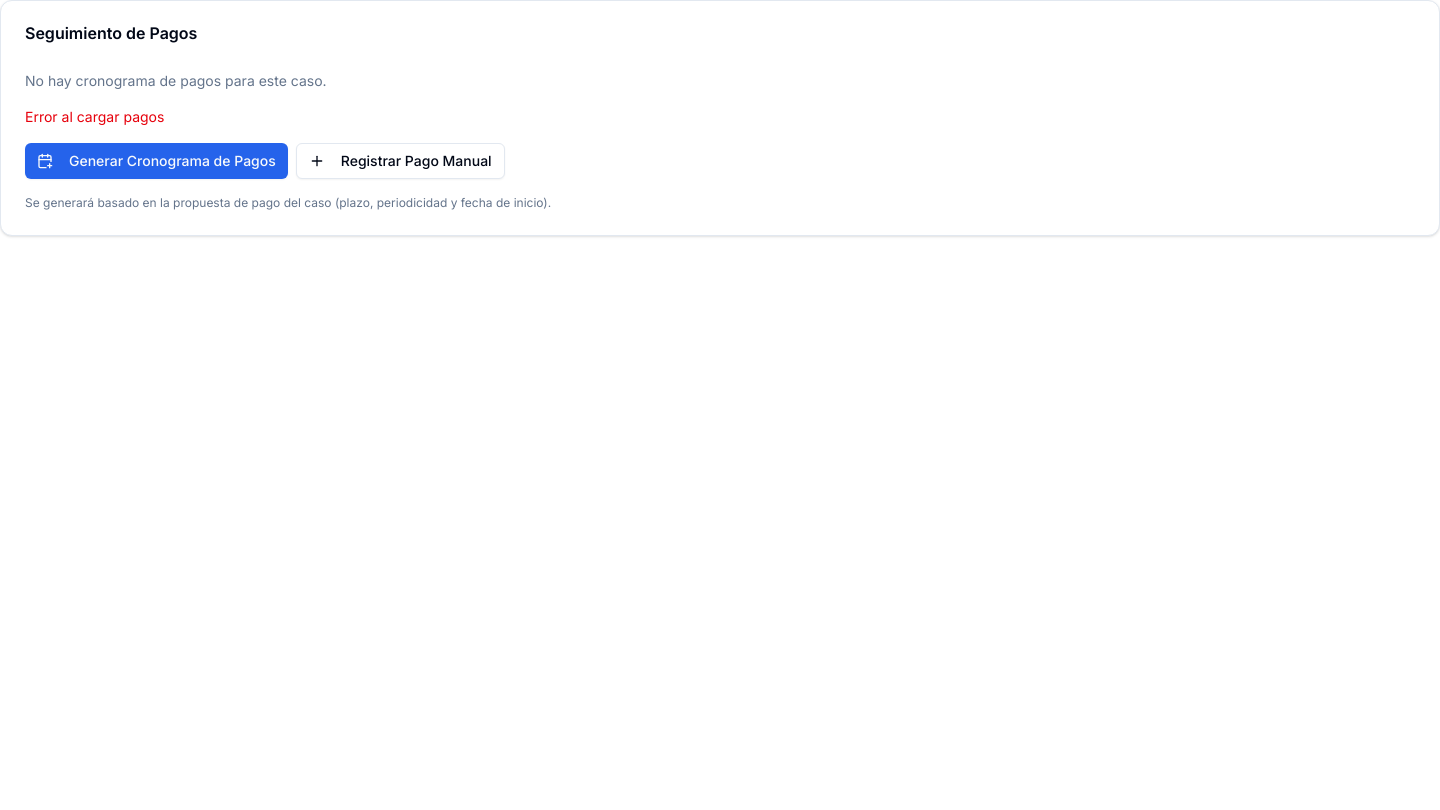
Test: PaymentTrackingSection — diálogo de registrar pago › no arrastra al diálogo el error de carga de la sección
Expected: the text "Error al cargar pagos" is shown, [25,108,164,125]
Click the button "Registrar Pago Manual".
click(400, 161)  # box [296,143,505,179]
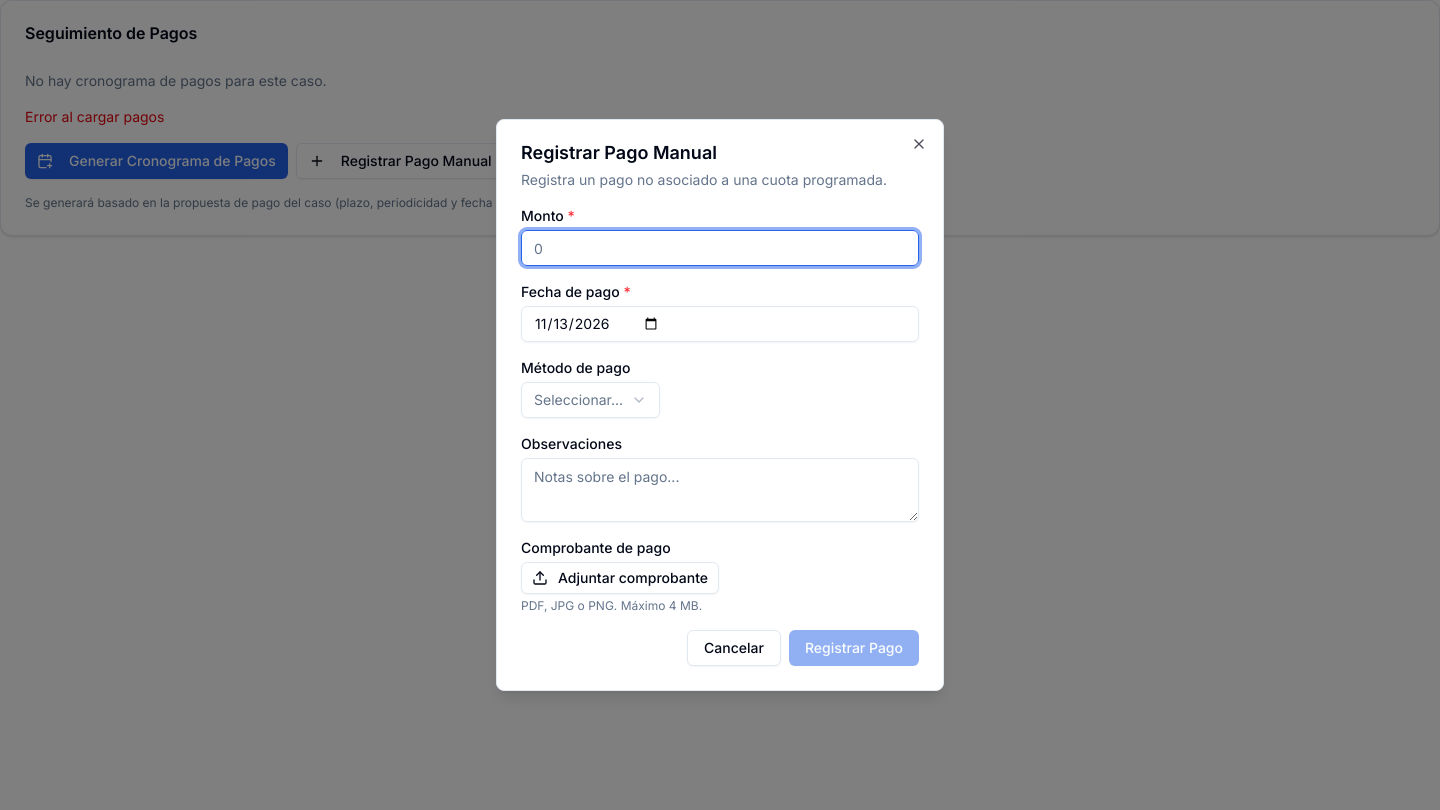
Now the dialog is shown, box [496,119,944,691]
Now the button "Registrar Pago" is disabled, box [789,630,919,666]
